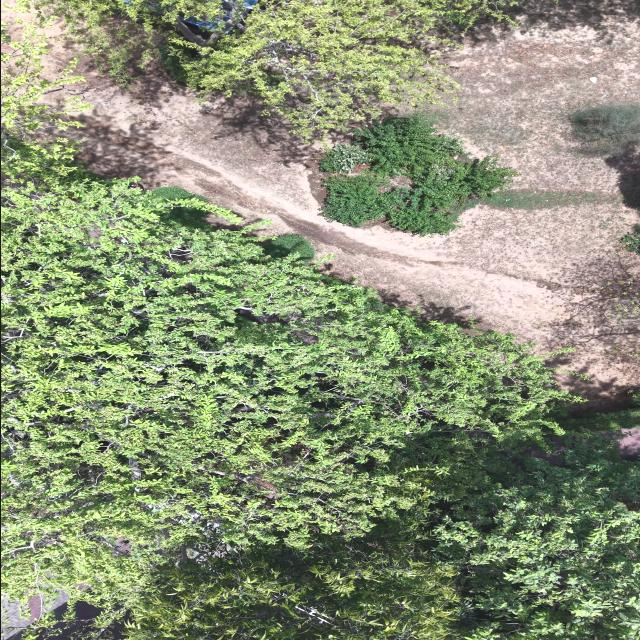DRY_AREA: (81, 0, 639, 406), (82, 94, 638, 392), (436, 0, 639, 190), (1, 592, 100, 639), (1, 592, 68, 639)
VEGETATION_TREE: (1, 45, 639, 639), (1, 162, 568, 616), (128, 414, 639, 639), (20, 0, 515, 136), (162, 0, 507, 136), (426, 422, 639, 639), (127, 536, 460, 639), (321, 117, 515, 235), (17, 0, 244, 84), (568, 103, 639, 210), (152, 187, 242, 230), (569, 103, 639, 156), (562, 392, 639, 439), (474, 189, 616, 210), (263, 234, 314, 262), (263, 235, 314, 263), (153, 187, 205, 201), (619, 229, 639, 255)
